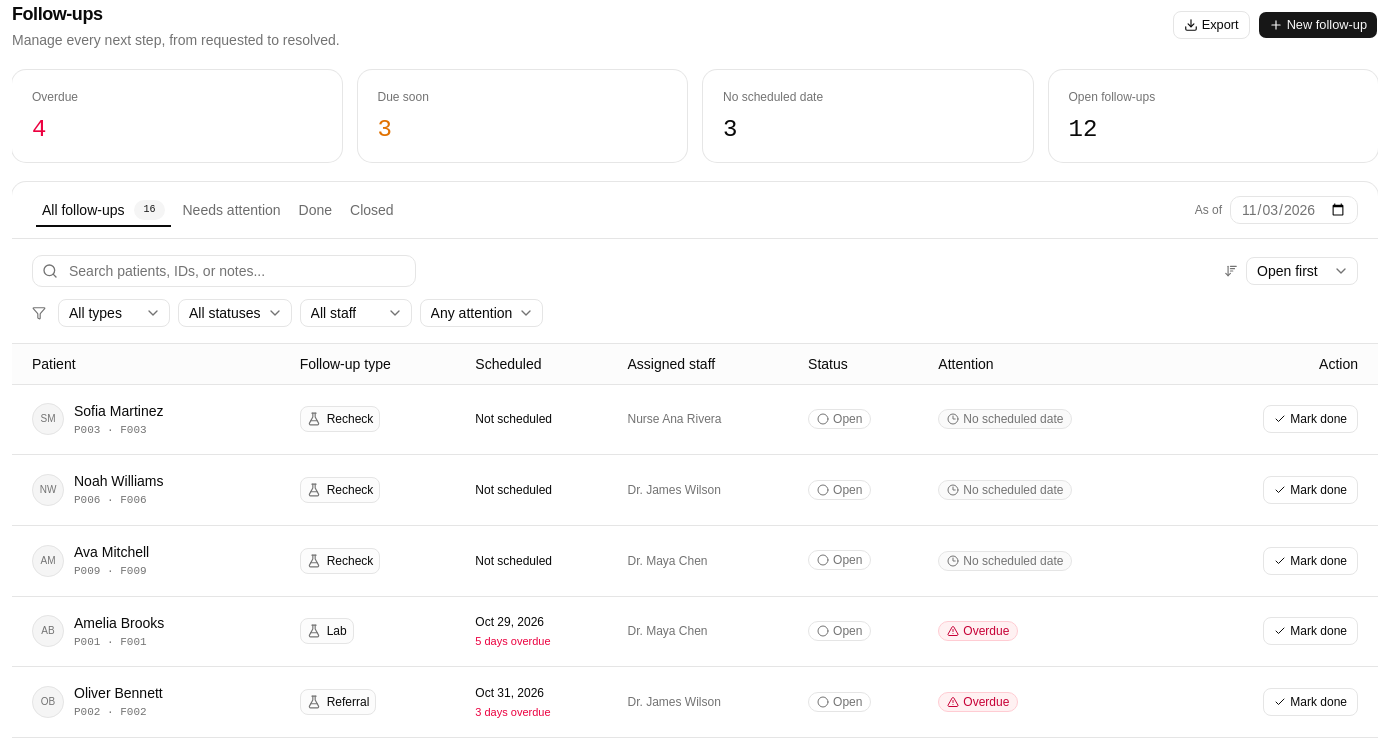
Test: Follow-up worklist › searches patients and shows a recoverable empty state
Check: the button "AB Amelia Brooks P001 · F001" is shown, box [32, 613, 164, 650]
In the field named "Search follow-ups": [224, 271] box [32, 255, 416, 287], type "Sofia"
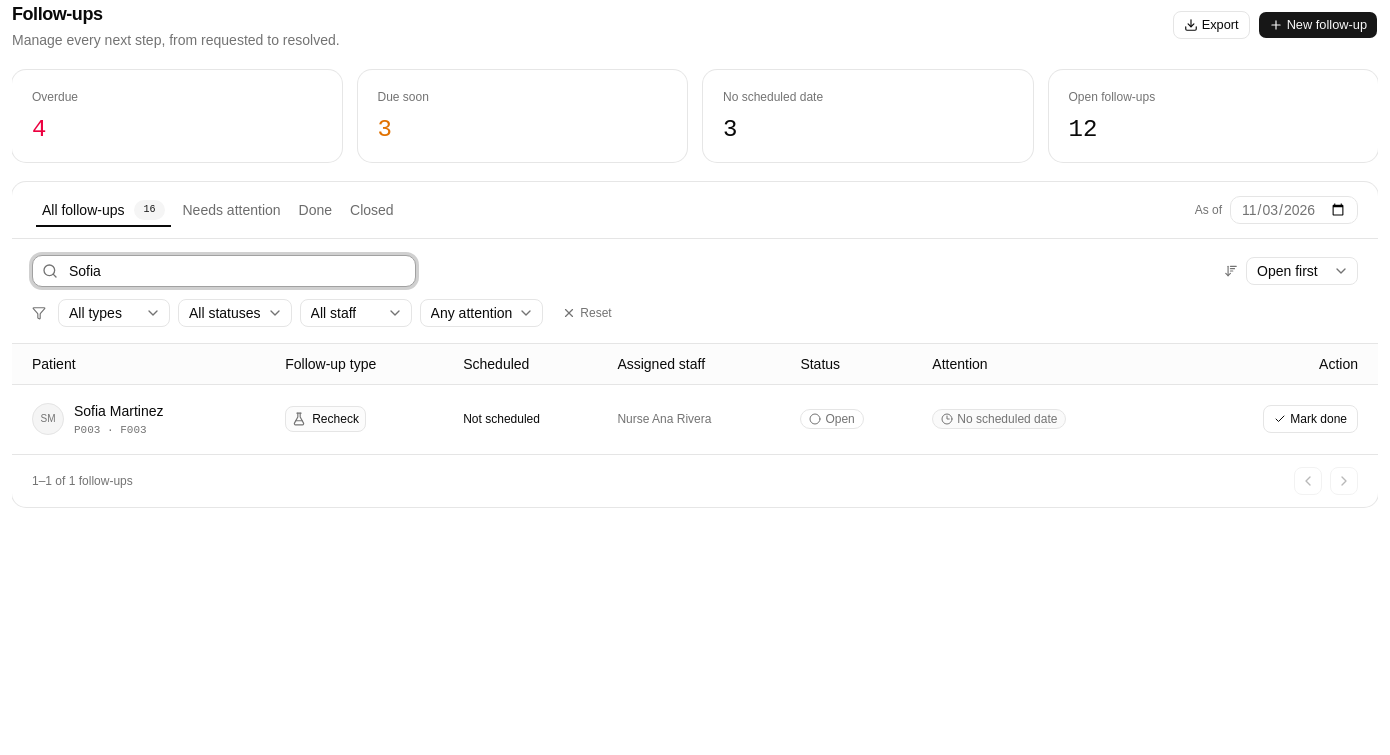
Check: the button "SM Sofia Martinez P003 · F003" is shown, box [32, 400, 164, 438]
Check: the text "1–1 of 1 follow-ups" is shown, box [32, 473, 133, 489]
Check: the button "Amelia Brooks" is gone
Replace the text in the field named "Search follow-ups" with "nonexistent patient": [224, 271] box [32, 255, 416, 287]
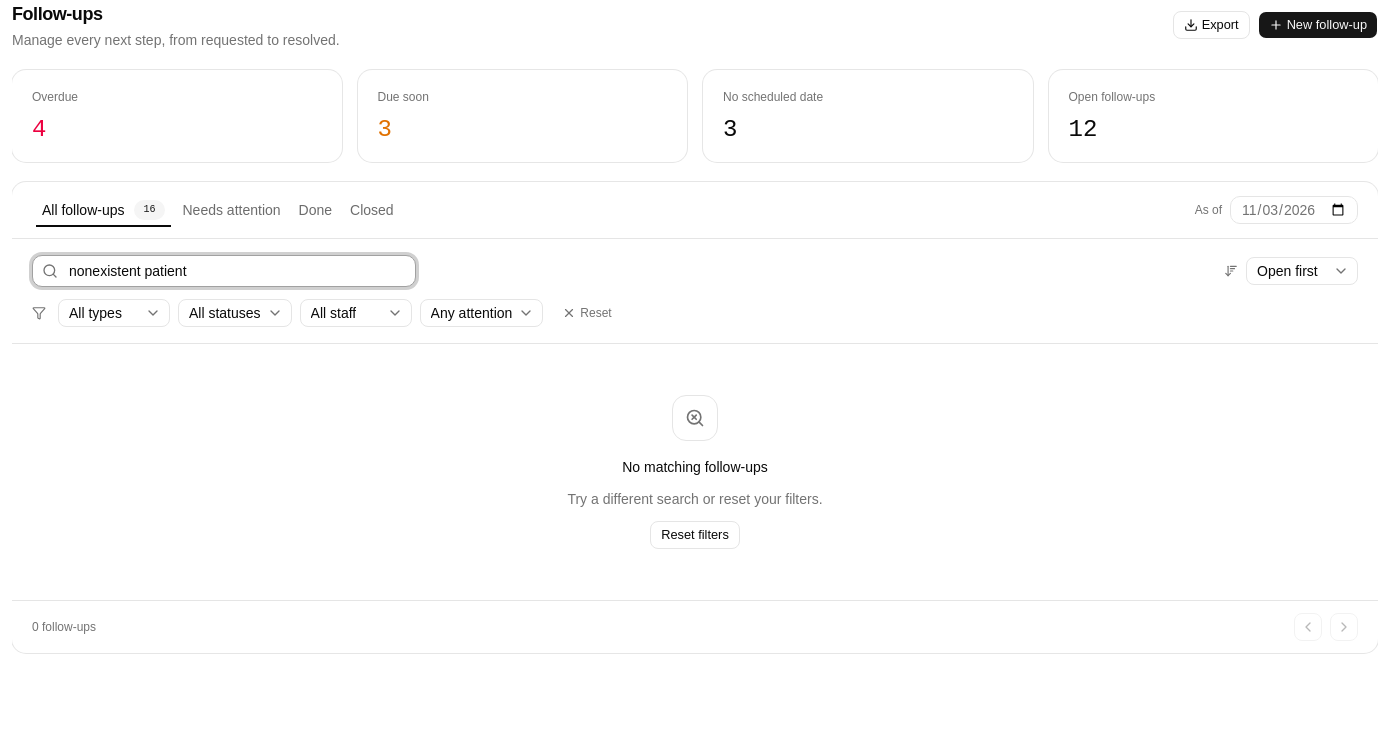
Check: the heading "No matching follow-ups" is shown, box [622, 457, 768, 477]
Click the button "Reset filters": [695, 535] box [650, 521, 740, 549]
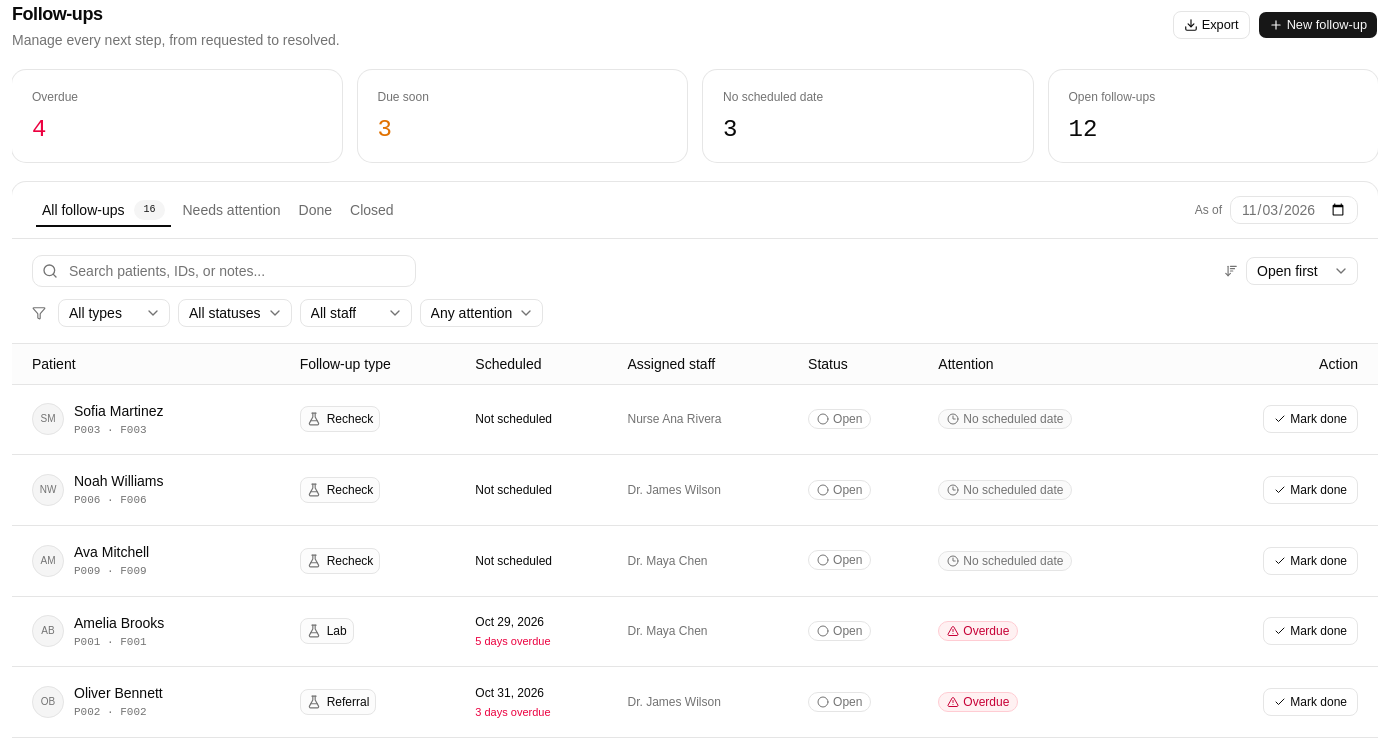
Check: the button "AB Amelia Brooks P001 · F001" is shown, box [32, 613, 164, 650]
